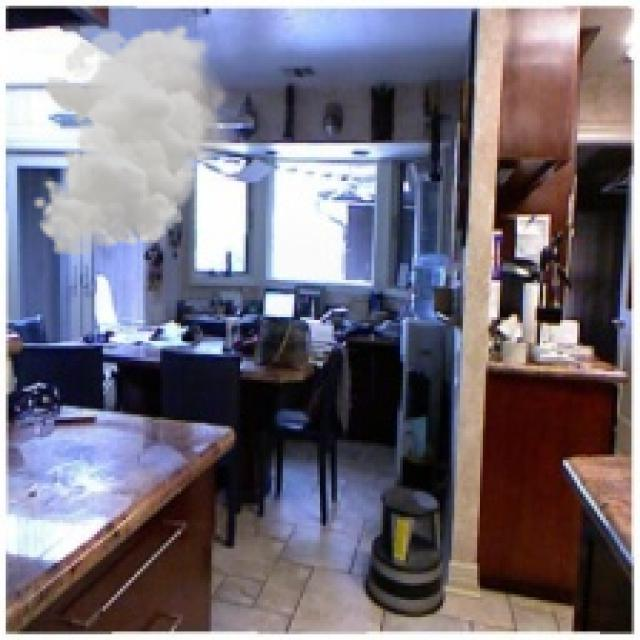Smoke: (31, 22, 238, 258)
